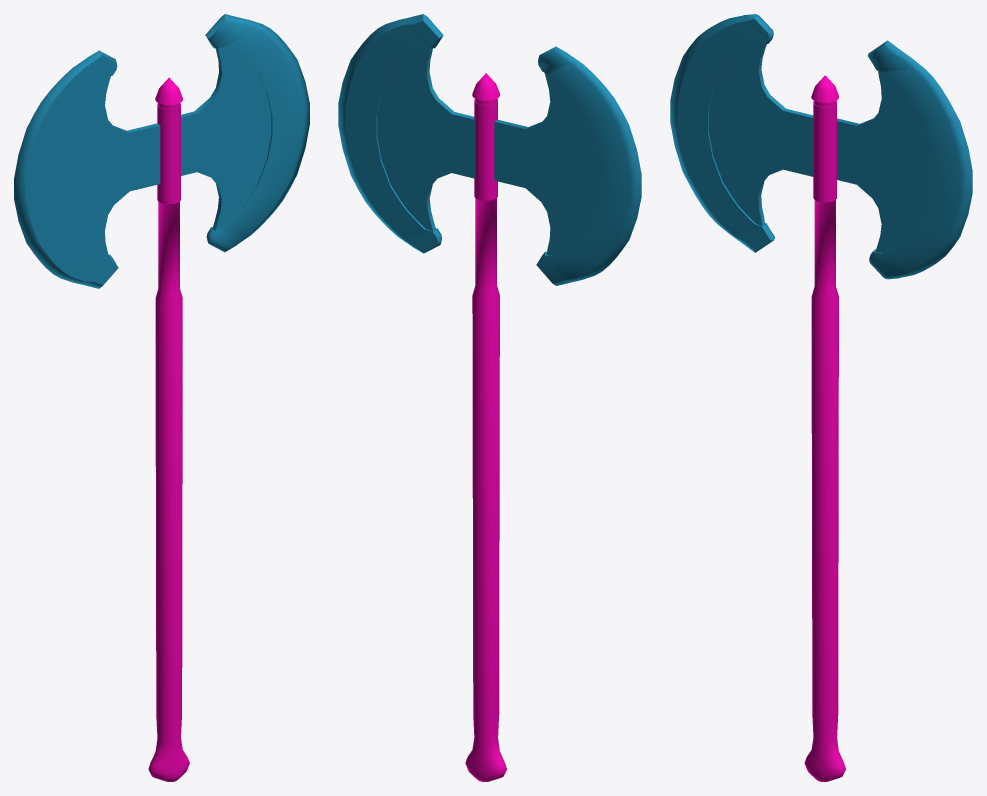
Rendered from 3D_WPN_GREATAXE.FBX.
3 renders of one model, left to right at view 1: azimuth 30°, elevation 25°; view 2: azimuth 150°, elevation 25°; view 3: azimuth 330°, elevation 25°, orthographic.
Visible parts, largest first — view 1: blade, blade001, Great Axe; view 2: blade, blade001, Great Axe; view 3: blade, blade001, Great Axe.
Boxes of the visible parts, x1,y1,x2,y2 form: blade: (14, 50, 160, 288); blade001: (181, 14, 309, 252); Great Axe: (148, 77, 189, 781); blade: (494, 46, 641, 285); blade001: (338, 14, 475, 253); Great Axe: (465, 73, 506, 781); blade: (670, 14, 813, 252); blade001: (837, 40, 972, 279); Great Axe: (804, 75, 845, 781).
Size of the model in its own units: 17.24 by 41.27 by 1.37.
